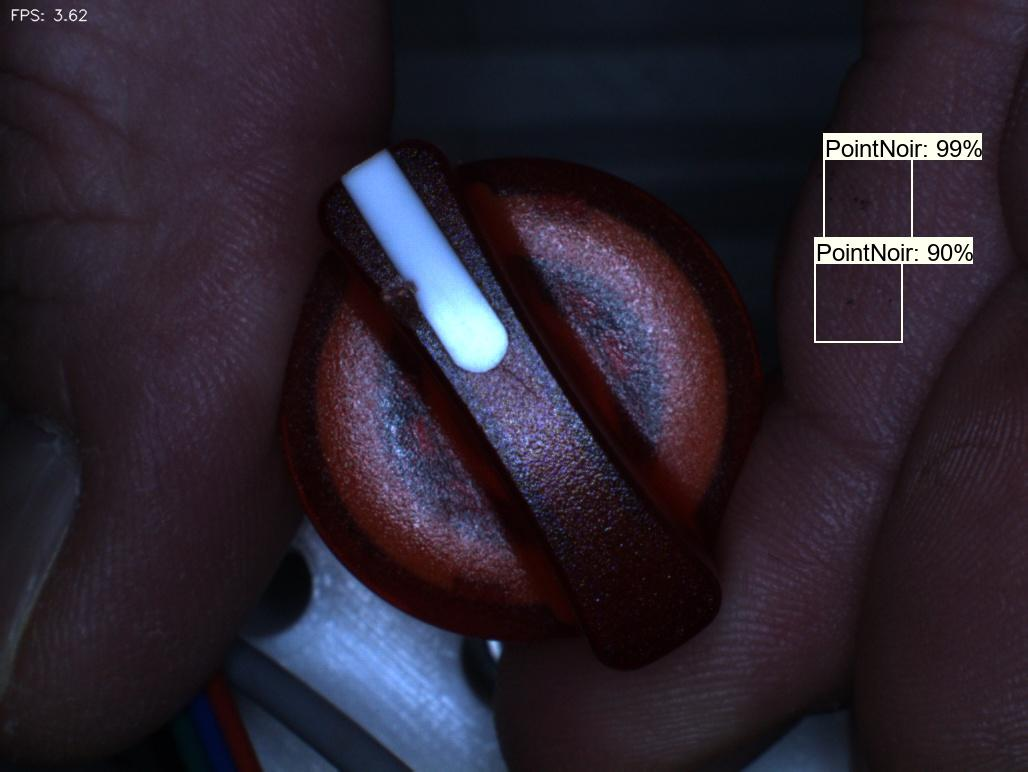Choc: (355, 255, 443, 353)
